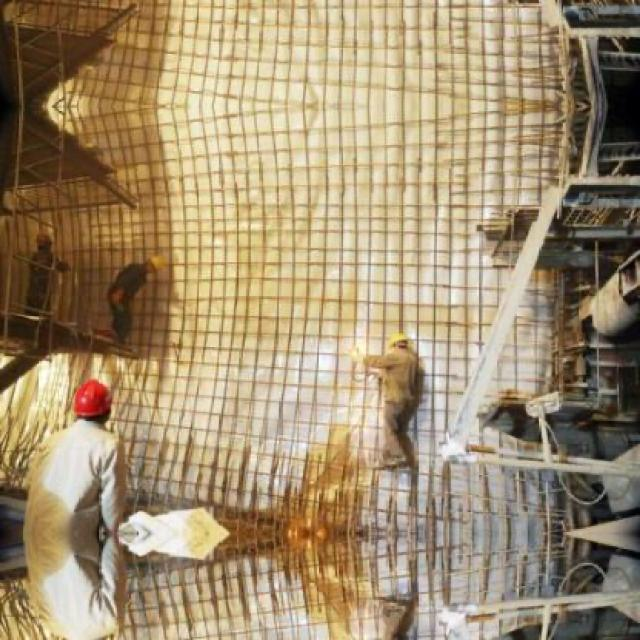helmet: (71, 378, 114, 430), (386, 336, 409, 359), (143, 251, 163, 276), (35, 230, 54, 253)
